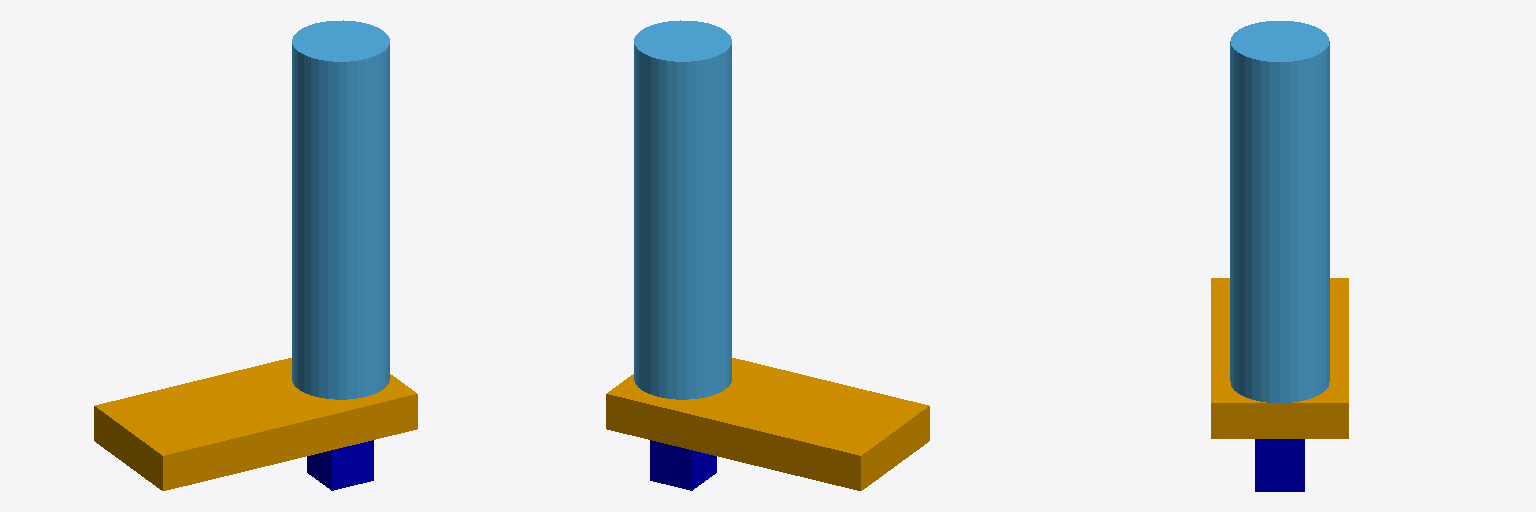
URDF robot description (pinzaAtornillador):
<?xml version="1.0"?>
<robot name="pinzaAtornillador">

  <material name="blue">
    <color rgba="0 0 0.8 1"/>
  </material>

  <link name="base_link">
    <visual>
      <geometry>
        <box size= "0.150 0.070 0.020"/>
      </geometry>
    </visual>
  </link>

  <link name="atornillador">
    <visual>
      <geometry>
        <cylinder length="0.200" radius="0.025"/>
      </geometry>
    </visual>
  </link>

  <joint name="base_to_atornillador" type="fixed">
    <parent link="base_link"/>
    <child link="atornillador"/>
    <origin xyz="0.050 0 0.100" />
  </joint>

  <link name="cabezal">
    <visual>
      <geometry>
        <box size= "0.025 0.025 0.050"/>
      </geometry>
      <material name="blue"/>
    </visual>
  </link>

  <joint name="atornillador_to_cabezal" type="fixed">
    <parent link="atornillador"/>
    <child link="cabezal"/>
    <axis xyz="0 0 1"/>
    <origin xyz="0 0 -0.120" />
  </joint>

</robot>

--- What the picture shows (computed from the rendered views, not written in the file) ---
Views: 3 orthographic renders of the robot side by side, from view 1: azimuth 30°, elevation 25°; view 2: azimuth 150°, elevation 25°; view 3: azimuth 270°, elevation 25°.
Robot: pinzaAtornillador — 3 links, 2 joints (2 fixed); root link base_link; default pose: every joint at zero.
Links seen in each view (by area): view 1: atornillador, base_link, cabezal; view 2: atornillador, base_link, cabezal; view 3: atornillador, base_link, cabezal.
Link boxes in pixels (box(x1,y1,x2,y2)): atornillador: box(292, 20, 389, 399); base_link: box(94, 358, 417, 490); cabezal: box(307, 440, 373, 490); atornillador: box(634, 20, 731, 399); base_link: box(606, 358, 929, 490); cabezal: box(650, 440, 716, 490); atornillador: box(1230, 21, 1329, 402); base_link: box(1211, 278, 1348, 438); cabezal: box(1255, 439, 1304, 491).
Bounding box of the posed robot: 0.15 × 0.07 × 0.245 m (x, y, z).
Geometry: primitives only (box / cylinder / sphere), no mesh files.